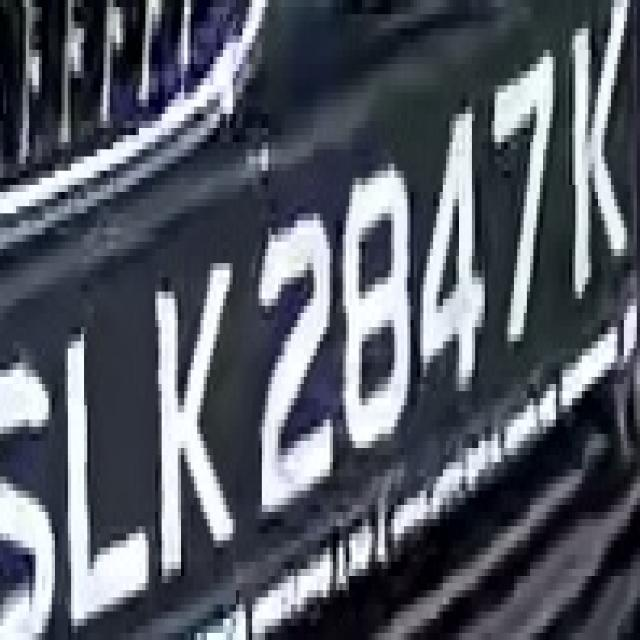2: (258, 214, 342, 534)
4: (401, 85, 494, 427)
7: (485, 42, 559, 362)
8: (333, 156, 420, 470)
K: (149, 263, 242, 562), (559, 28, 630, 306)
L: (58, 298, 142, 626)
S: (0, 320, 58, 626)
